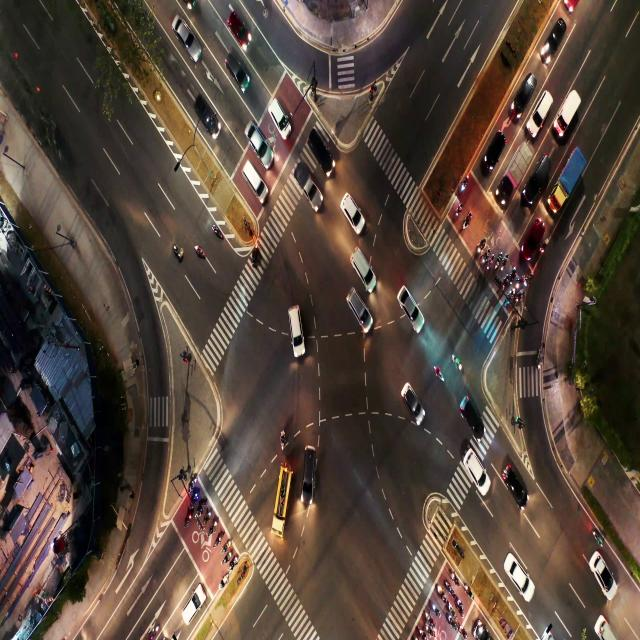bus: (276, 474, 293, 522)
car: (243, 162, 269, 207), (173, 20, 201, 61), (343, 280, 368, 324), (196, 95, 219, 140), (508, 548, 532, 590), (458, 398, 485, 433), (506, 464, 526, 504), (286, 309, 304, 353), (246, 119, 268, 155), (228, 17, 250, 50), (227, 54, 246, 91), (342, 190, 361, 226), (270, 100, 289, 135), (185, 587, 203, 622), (467, 455, 488, 485), (353, 248, 371, 282), (401, 288, 420, 320), (402, 384, 420, 414), (592, 559, 610, 587), (532, 158, 548, 188), (488, 130, 502, 164), (314, 136, 329, 166), (304, 451, 314, 495), (509, 85, 531, 105), (534, 92, 548, 120), (526, 220, 541, 244), (547, 29, 561, 51)
motorcycle: (171, 243, 184, 260), (541, 236, 549, 256), (533, 351, 543, 367), (194, 245, 206, 258), (444, 578, 453, 595), (452, 355, 462, 370), (251, 246, 258, 267), (437, 582, 445, 600), (434, 365, 442, 383), (464, 210, 472, 228), (280, 429, 286, 452), (213, 225, 223, 237), (526, 270, 532, 290), (477, 236, 484, 253), (209, 520, 216, 536), (219, 573, 227, 587), (188, 475, 195, 490), (514, 292, 522, 305), (458, 598, 464, 615), (431, 603, 440, 614), (216, 532, 223, 546), (451, 573, 459, 585), (416, 626, 424, 638), (229, 559, 236, 572), (186, 509, 191, 527), (455, 202, 461, 217), (483, 249, 489, 264), (503, 254, 509, 269), (466, 587, 474, 598), (512, 265, 516, 287), (503, 275, 508, 292), (191, 492, 197, 506), (448, 602, 454, 616), (507, 289, 513, 303), (462, 626, 468, 639), (223, 553, 230, 564), (223, 541, 229, 553), (449, 618, 456, 628), (462, 177, 467, 191), (205, 511, 210, 523), (426, 614, 432, 624), (198, 505, 203, 516), (517, 279, 522, 290), (497, 252, 500, 269), (429, 627, 434, 637), (490, 255, 492, 268)
truck: (297, 170, 318, 202), (565, 156, 581, 192), (560, 94, 579, 119), (512, 157, 524, 180)
